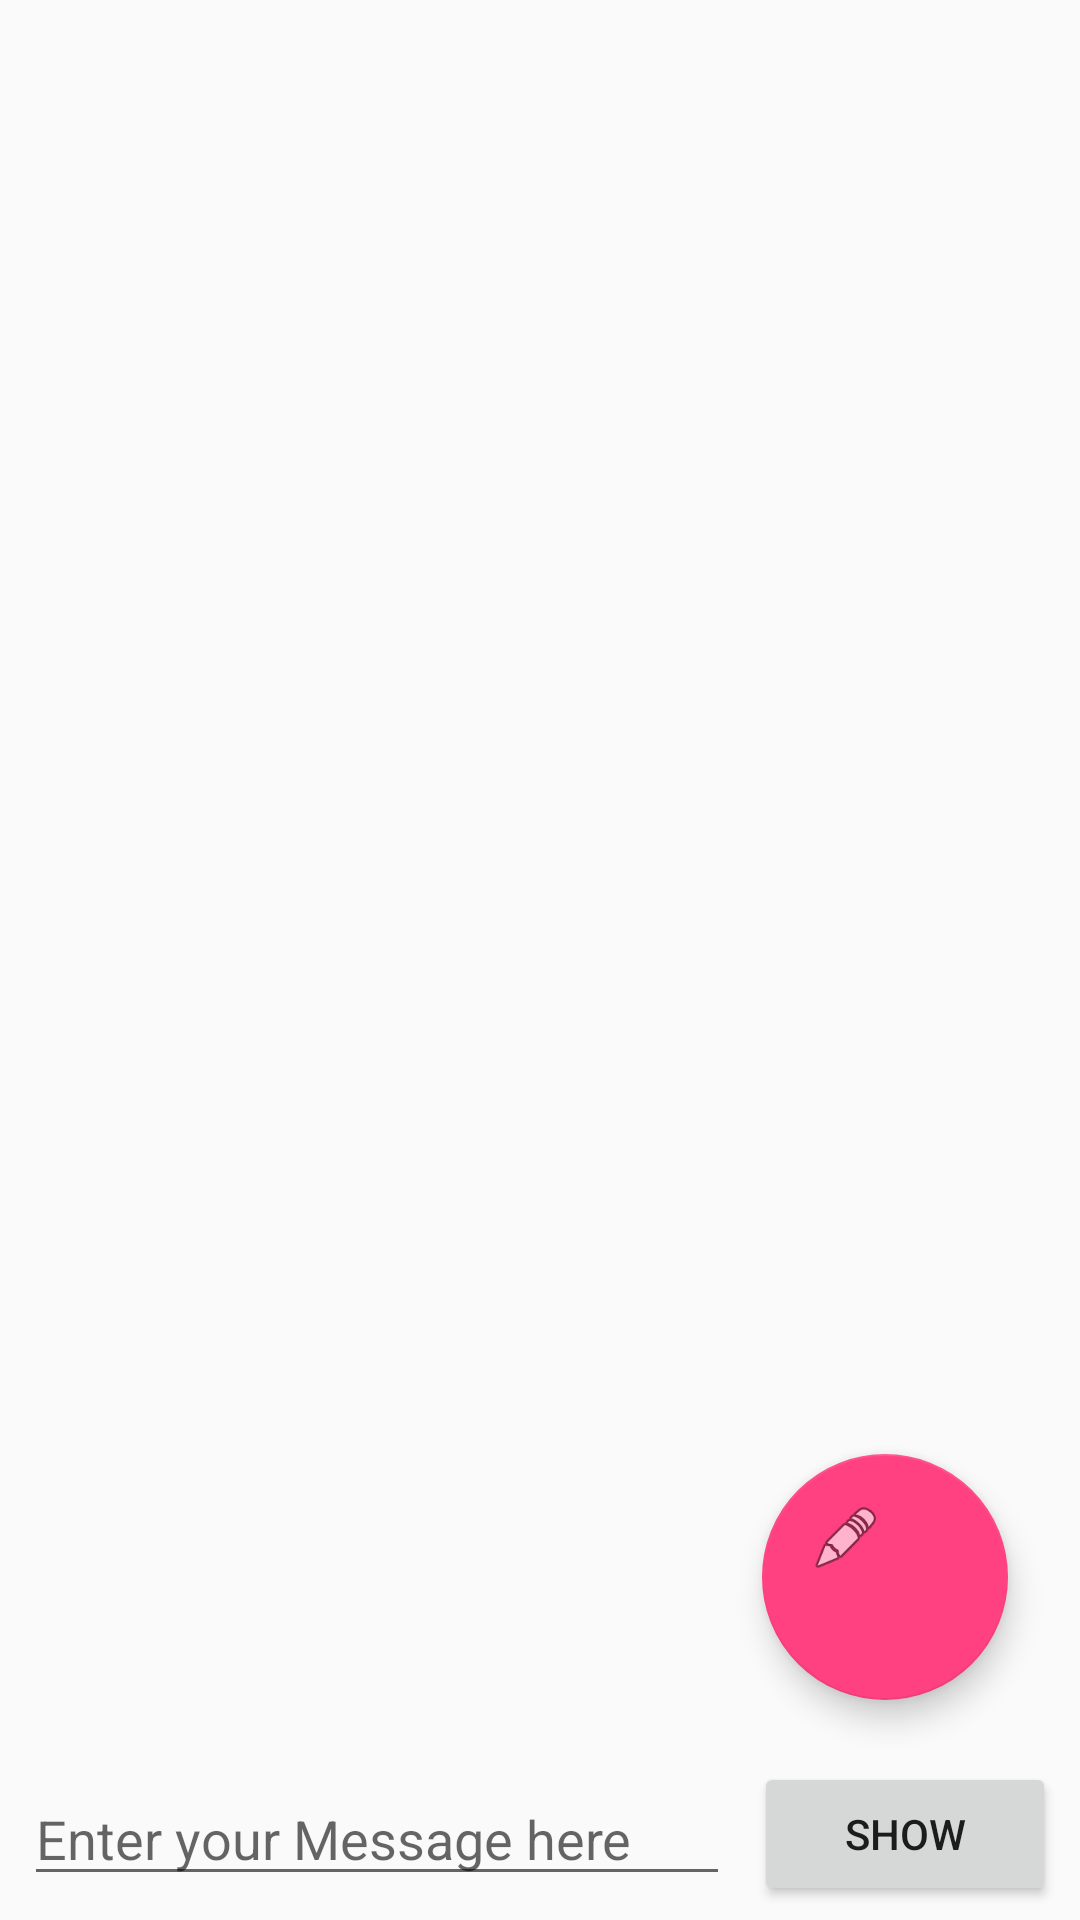

Named icons in this screenshot (1080px×1920px) and their bounding boxes, (x1, y1, x2, y2):
edit: (762, 1454, 1008, 1700)
